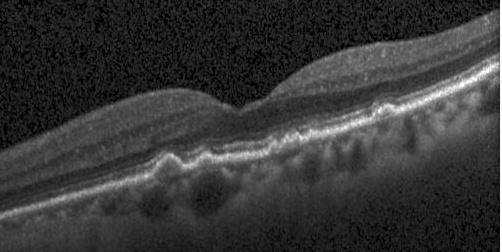retinal_drusen: (156, 157, 181, 176), (281, 135, 300, 150), (376, 106, 394, 120), (196, 156, 212, 169), (269, 144, 277, 155), (309, 132, 319, 140), (301, 137, 307, 143)
